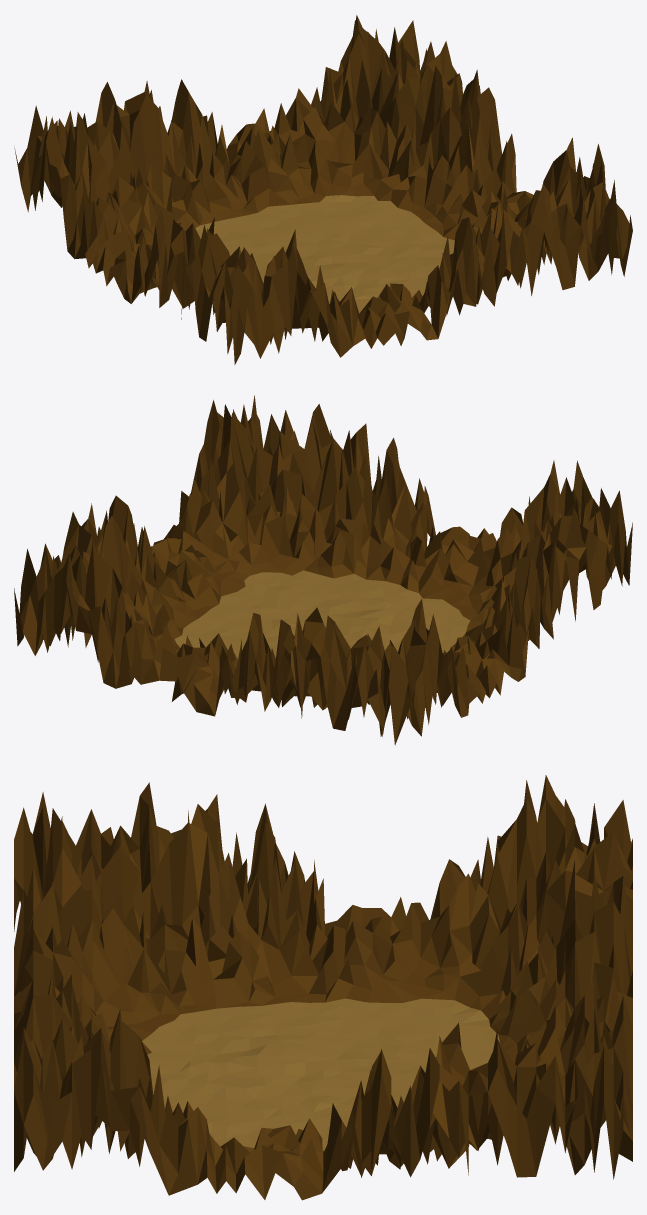
The model's file is sabaku.fbx.
3 views of the same model, one above another, from view 1: azimuth 30°, elevation 25°; view 2: azimuth 150°, elevation 25°; view 3: azimuth 270°, elevation 25° (orthographic). The views are drawn at different scales.
Parts seen in each view (by area): view 1: Plane.001; view 2: Plane.001; view 3: Plane.001.
Part boxes in pixels (left/top/right/bottom): Plane.001: left=14, top=15, right=632, bottom=364; Plane.001: left=14, top=395, right=632, bottom=745; Plane.001: left=14, top=775, right=632, bottom=1200.
Size of the model in its own units: 15010 by 4895 by 15002.
